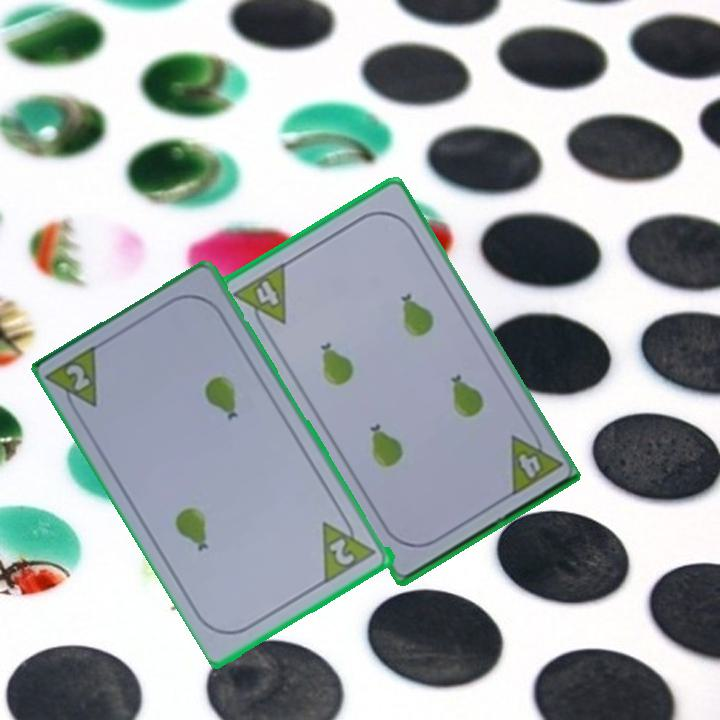2p: (44, 340, 103, 422), (318, 508, 380, 585)
4p: (229, 259, 290, 337), (505, 423, 564, 499)
